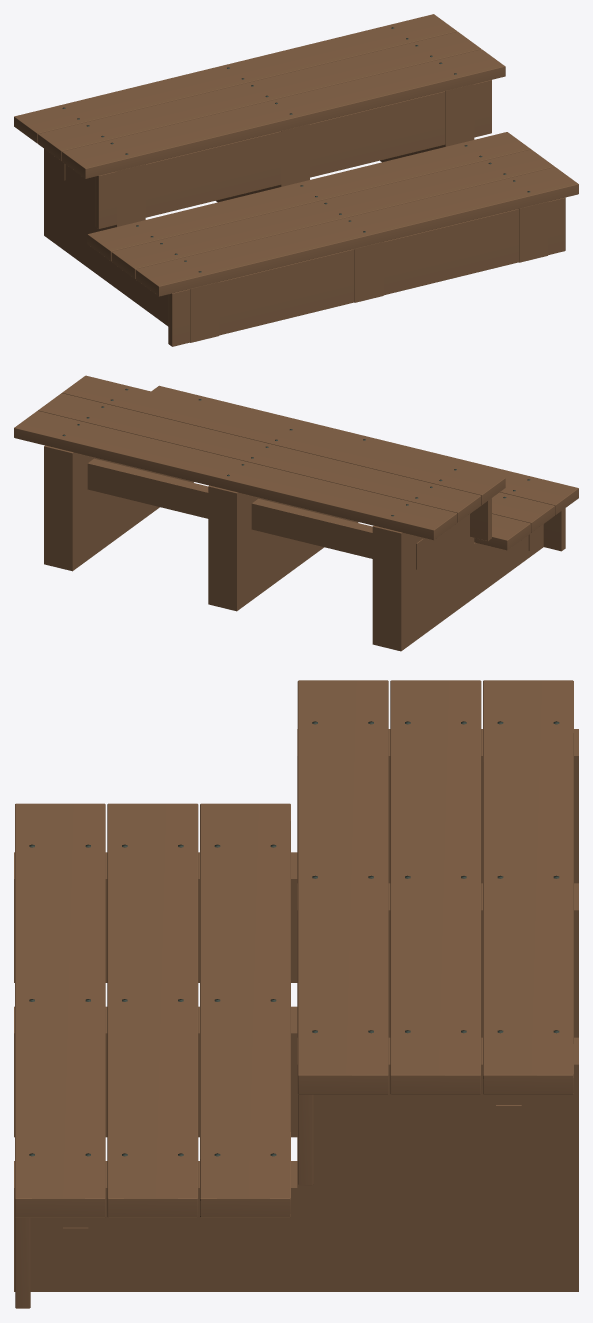
The model's file is rpg-mansion-garden-two-riser-deck-step-01.glb.
3 views of the same model, one above another, from view 1: azimuth 30°, elevation 25°; view 2: azimuth 150°, elevation 25°; view 3: azimuth 270°, elevation 25° (orthographic). The views are drawn at different scales.
Visible parts, largest first — view 1: rpg-mansion-garden-two-riser-deck-step-01; view 2: rpg-mansion-garden-two-riser-deck-step-01; view 3: rpg-mansion-garden-two-riser-deck-step-01.
Boxes of the visible parts, box(x1,y1,x2,y2) form: rpg-mansion-garden-two-riser-deck-step-01: box(14, 14, 578, 346); rpg-mansion-garden-two-riser-deck-step-01: box(14, 375, 578, 651); rpg-mansion-garden-two-riser-deck-step-01: box(14, 680, 578, 1308).
Size of the model in its own units: 1.1 by 0.3206 by 0.665.
